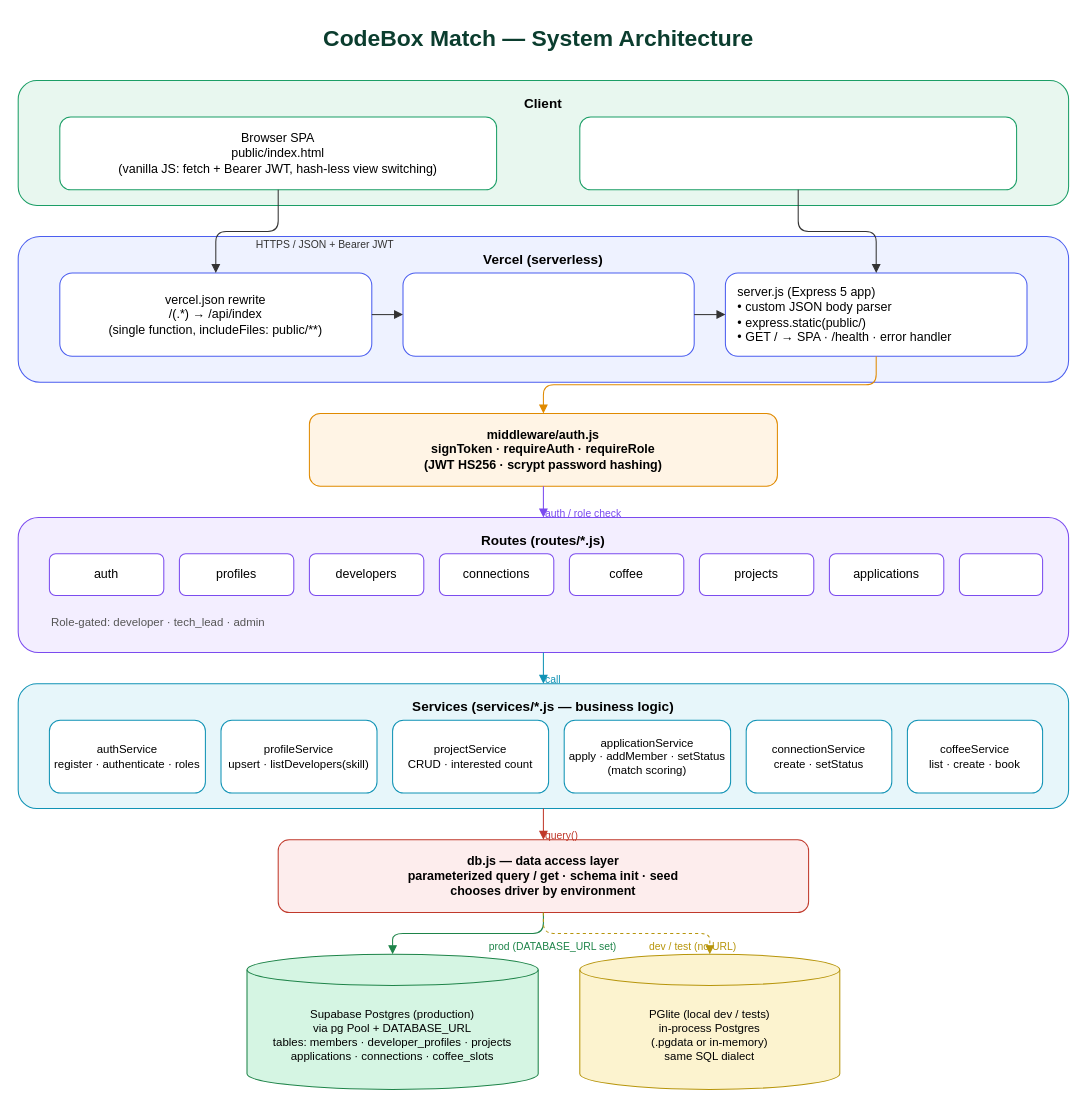
Image size: 1087x1108. Some labels were removed from this diagram. Here are the shapes that lost their labels. From the top down, the centre of each, then its label:
the point at 798,153: Static assets cover.mp4 · clip1.webm · clip2.mp4 (served from public/)
the point at 548,314: api/index.js (serverless entry → exports Express app)
the point at 1000,574: admin
